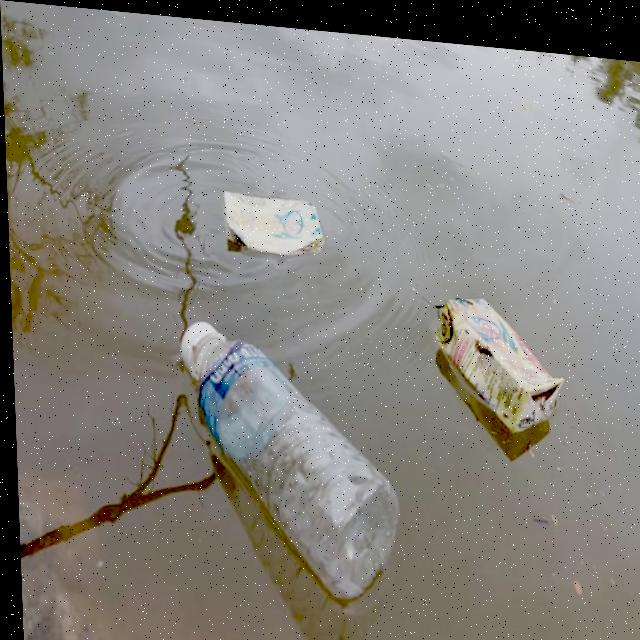paper: (431, 246, 558, 441), (211, 154, 331, 270)
waterbottle: (152, 308, 401, 592)
